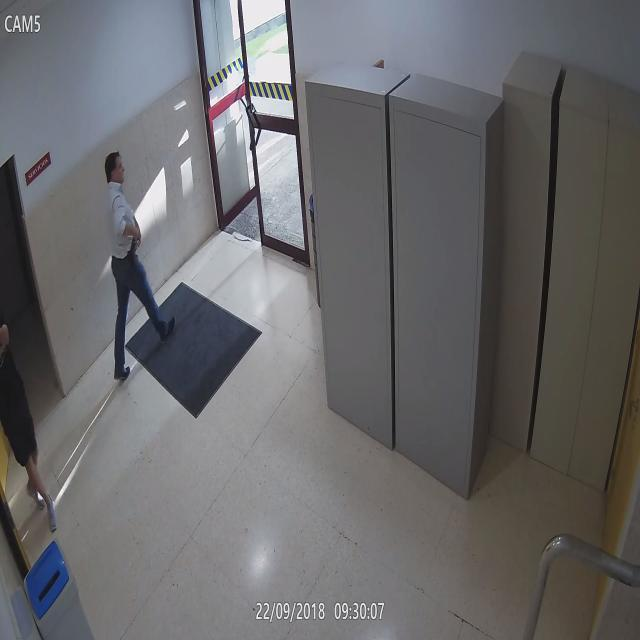Gun: (131, 226, 141, 256)
